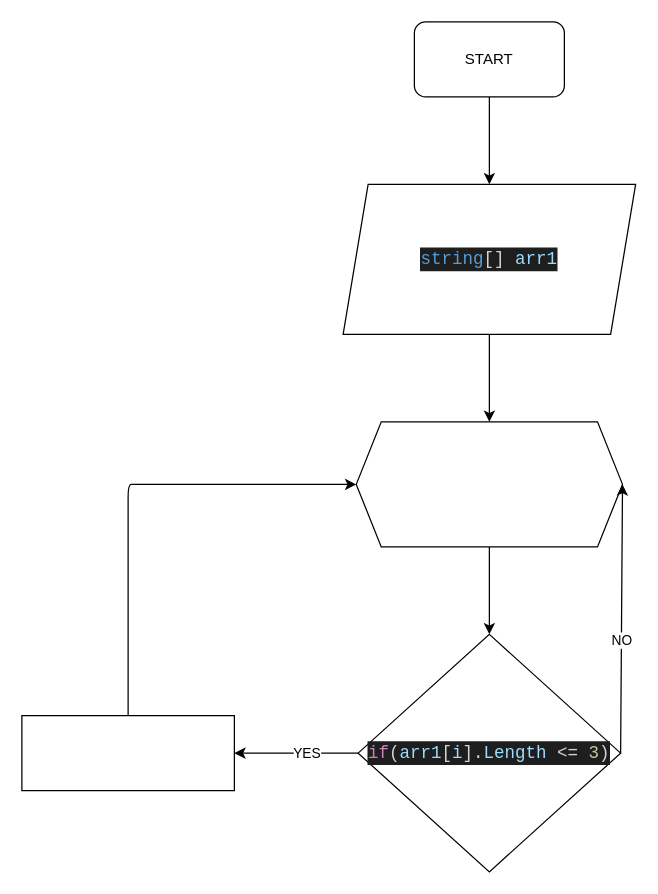
This 658x894 diagram has some shape labels left out. Each missing label, with the centre of its shape:
arr2 [ k ] = arr1 [ i ]; k ++;: point (127, 752)
for(int i = 0; i < arr1.Lenghs; i++): point (488, 484)
